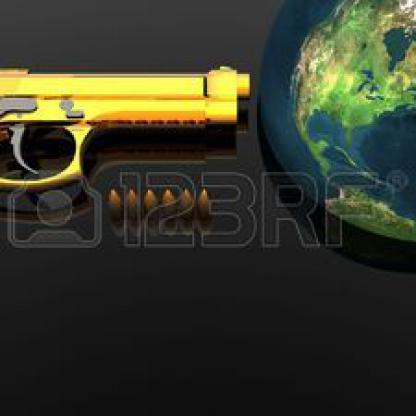gun: (0, 53, 265, 315)
